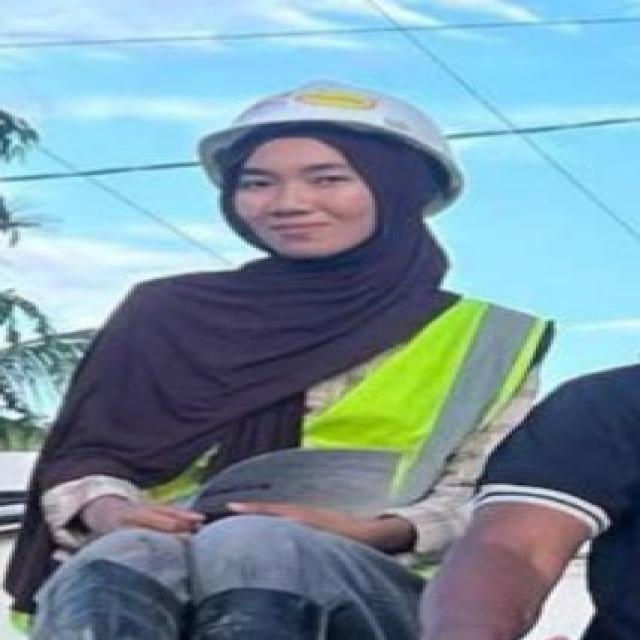safetyhelmet: (170, 73, 469, 262)
